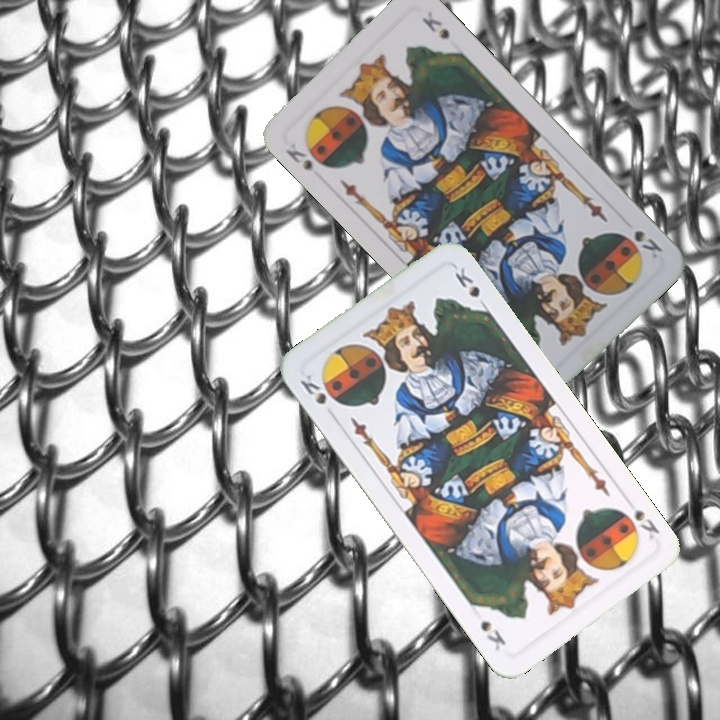SK: (617, 226, 665, 261), (296, 370, 329, 407), (630, 505, 662, 543), (281, 139, 315, 174)
